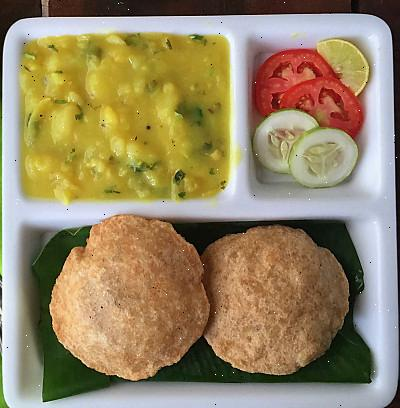puri: (52, 219, 354, 379)
